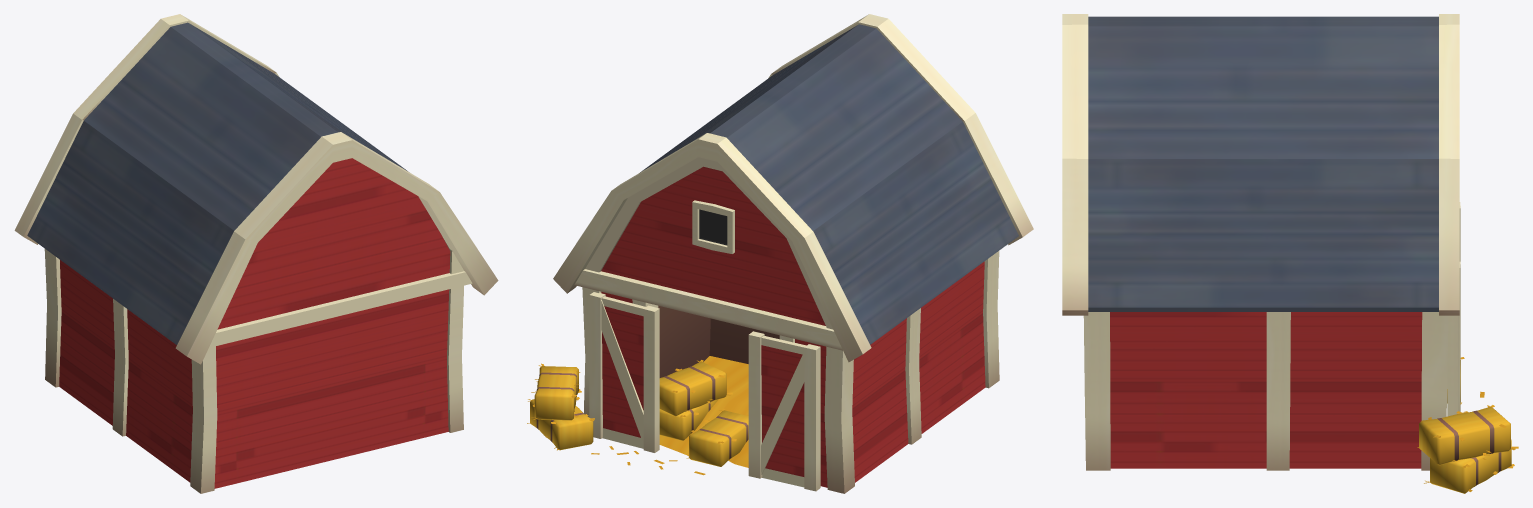
File: Barn_Base.fbx
The picture shows the model from 3 angles, left to right: view 1: azimuth 30°, elevation 25°; view 2: azimuth 150°, elevation 25°; view 3: azimuth 270°, elevation 25°; orthographic projection. The views are drawn at different scales.
Parts seen in each view (by area): view 1: Barn_Base; view 2: Barn_Base, Bale_Door_R, Bale_Door_L, Bale_Group_2, Bale_Group, Bale; view 3: Barn_Base, Bale_Group_2, Bale_Door_L.
Boxes of the visible parts, bbox=[...] form: Barn_Base: bbox=[14, 14, 498, 493]; Barn_Base: bbox=[553, 14, 1033, 493]; Bale_Door_R: bbox=[748, 331, 820, 491]; Bale_Door_L: bbox=[589, 292, 659, 452]; Bale_Group_2: bbox=[527, 363, 594, 450]; Bale_Group: bbox=[659, 360, 732, 440]; Bale: bbox=[686, 408, 748, 466]; Barn_Base: bbox=[1062, 14, 1459, 470]; Bale_Group_2: bbox=[1417, 405, 1518, 493]; Bale_Door_L: bbox=[1447, 261, 1460, 416].
Size of the model in its own units: 564 by 528 by 576.
